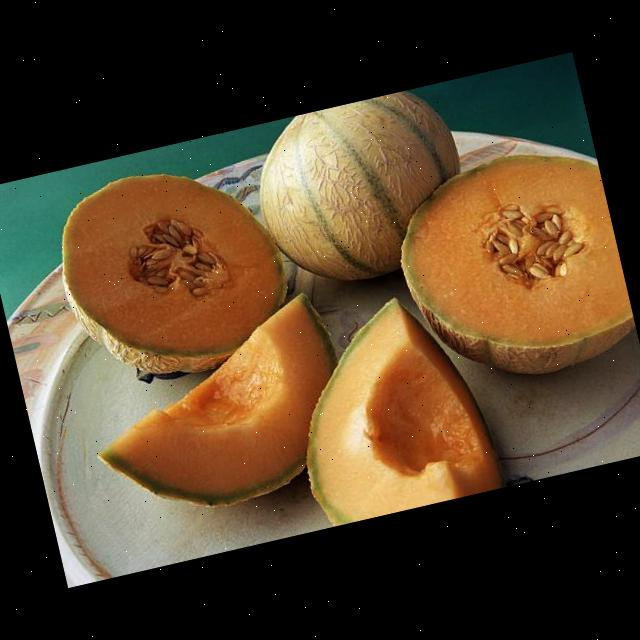Hami Melon: (71, 289, 362, 532), (382, 133, 640, 398), (44, 147, 302, 398), (272, 283, 502, 530), (242, 82, 481, 300)
